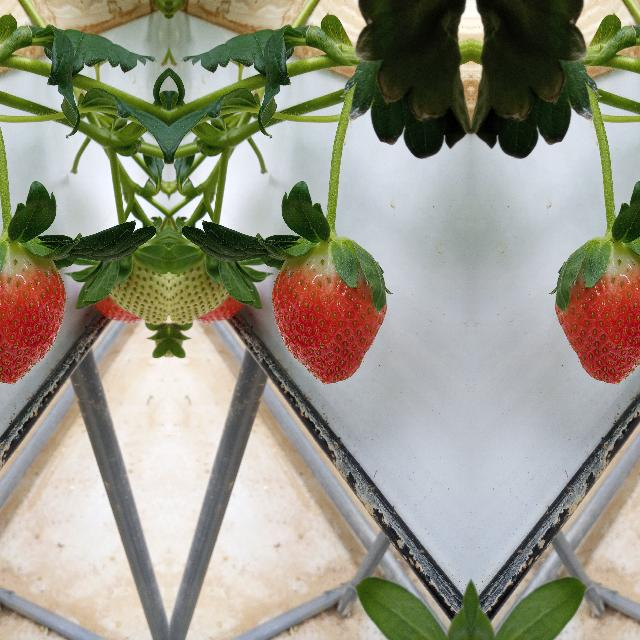Health_100: (269, 240, 386, 386), (554, 240, 640, 385), (0, 240, 66, 385)
Health_25: (168, 204, 226, 328), (110, 204, 168, 328)
